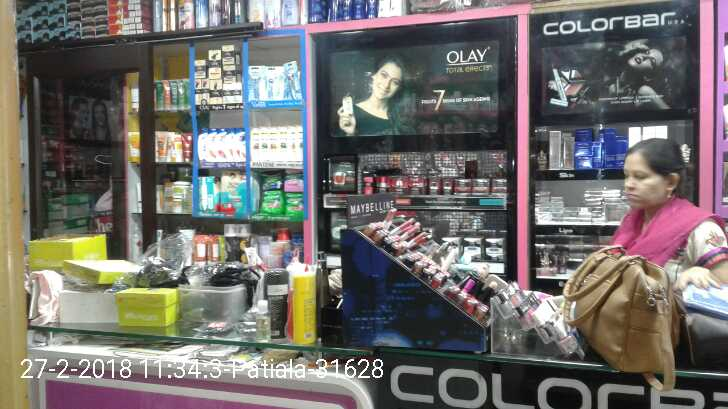venus: (285, 59, 300, 97), (249, 67, 267, 98), (267, 67, 285, 97)
